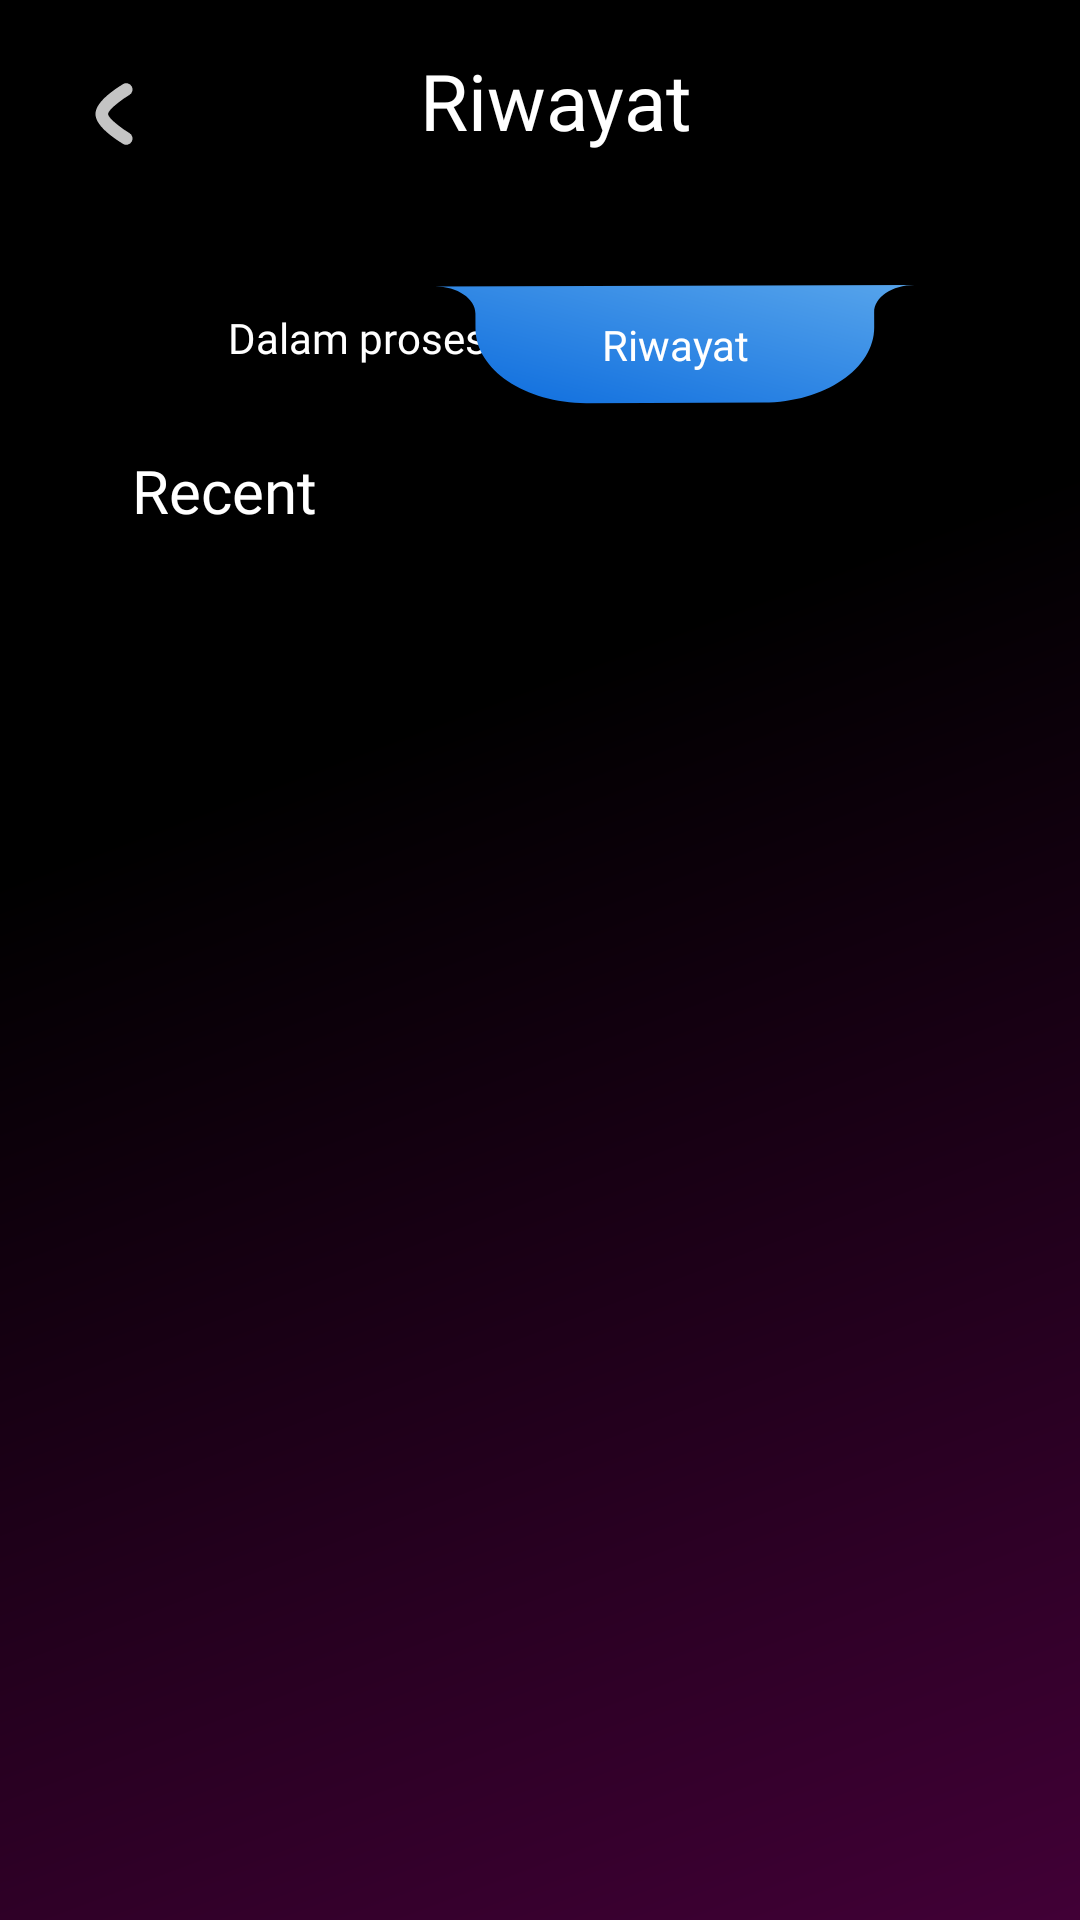

Where to tap for icons on this 1080 × 1920 app screen, as (x,y):
back: (114,114)
